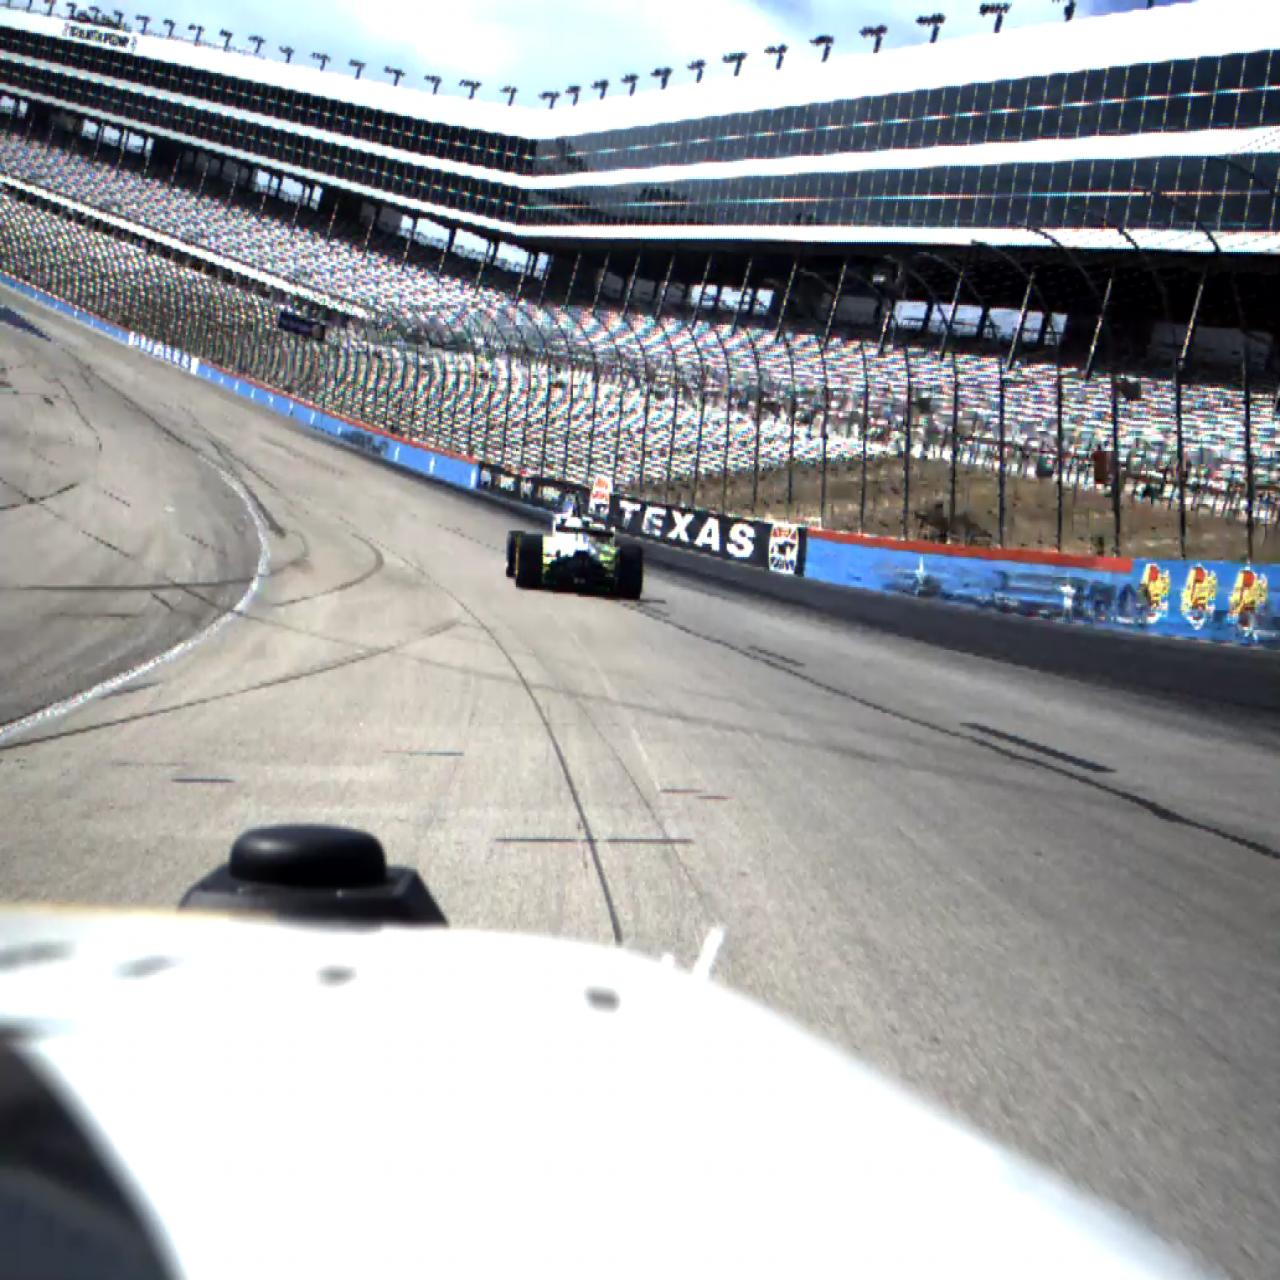AV: (506, 483, 644, 599)
Wheel: (516, 535, 544, 590), (618, 545, 642, 598), (506, 531, 525, 578)
